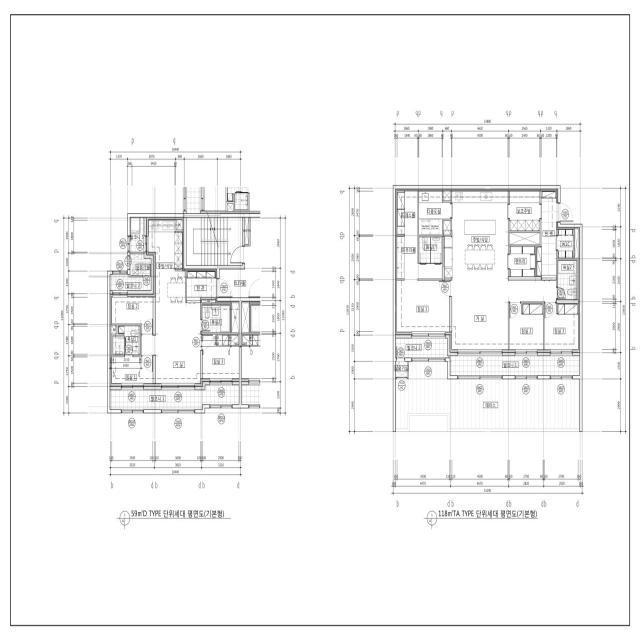space_balconi: (110, 385, 239, 410), (450, 356, 580, 375), (396, 338, 449, 358), (110, 275, 151, 290), (130, 217, 144, 252)
space_bedroom: (397, 281, 449, 334), (203, 334, 239, 381), (110, 294, 153, 333), (544, 304, 578, 352), (509, 304, 543, 352)
space_dressroom: (397, 191, 418, 235)
space_elevator_hall: (219, 217, 260, 298)
space_front: (536, 191, 556, 278), (187, 269, 217, 301)
space_kitchen: (445, 191, 508, 279), (147, 217, 185, 303), (509, 191, 540, 231)
space_living_room: (451, 278, 556, 352), (142, 302, 203, 386)
space_other: (397, 237, 442, 279), (419, 191, 450, 235), (509, 247, 535, 276), (558, 229, 574, 258), (509, 233, 540, 245), (232, 302, 239, 332), (443, 221, 451, 235), (245, 217, 249, 244), (575, 229, 578, 258), (443, 191, 451, 201), (202, 299, 217, 303), (110, 326, 117, 334)
space_outdoor_room: (130, 254, 151, 275), (396, 362, 407, 377)
space_staircase: (186, 217, 242, 265)
space_toilet: (110, 357, 153, 386), (113, 326, 140, 355), (558, 260, 577, 300), (202, 305, 230, 332), (419, 237, 442, 263)
